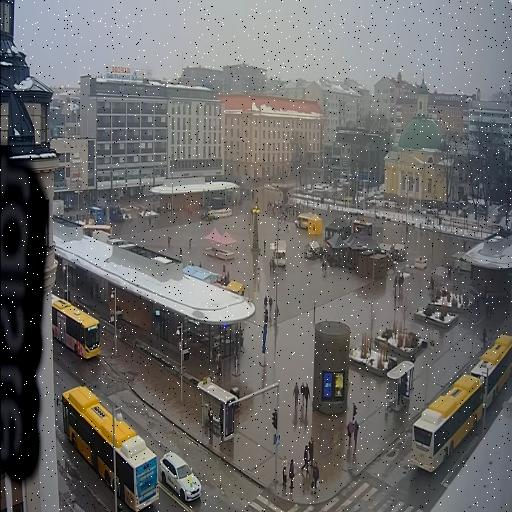Bus: (62, 386, 159, 511), (412, 374, 484, 472), (52, 295, 100, 358), (471, 334, 512, 404)
